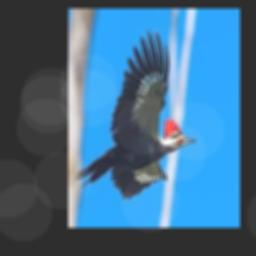Woodpecker: (75, 29, 196, 199)
